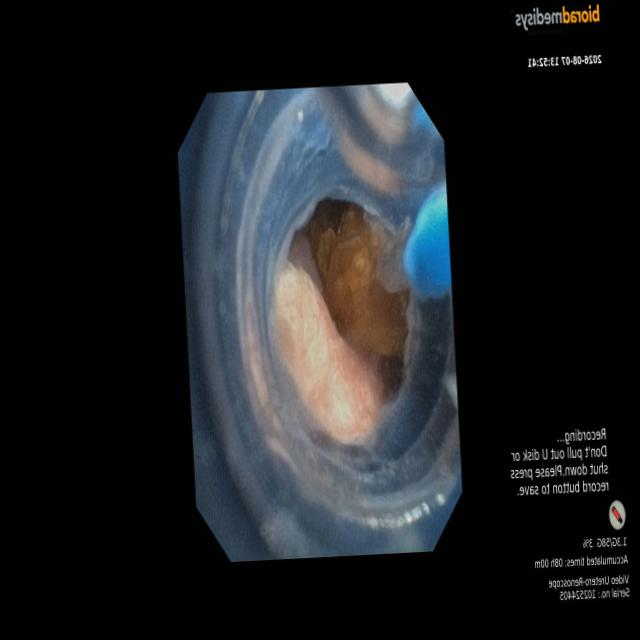laser-fibre: (377, 218, 410, 293)
stone-new: (319, 204, 408, 358)
